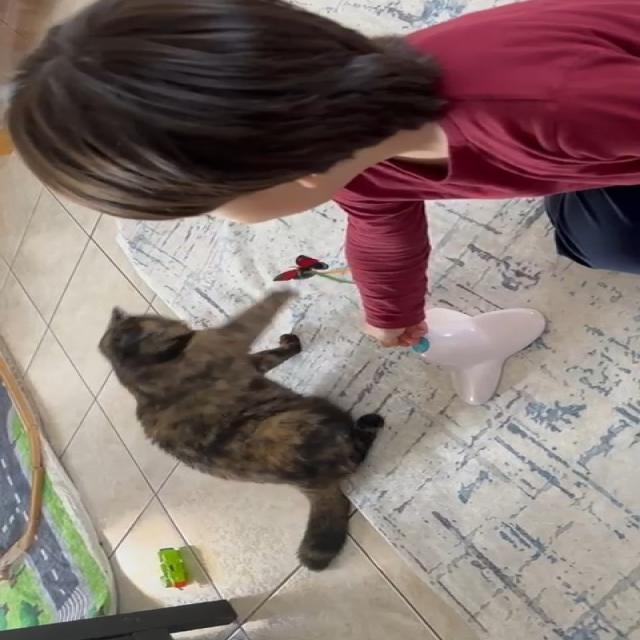authorized: (96, 288, 385, 572)
